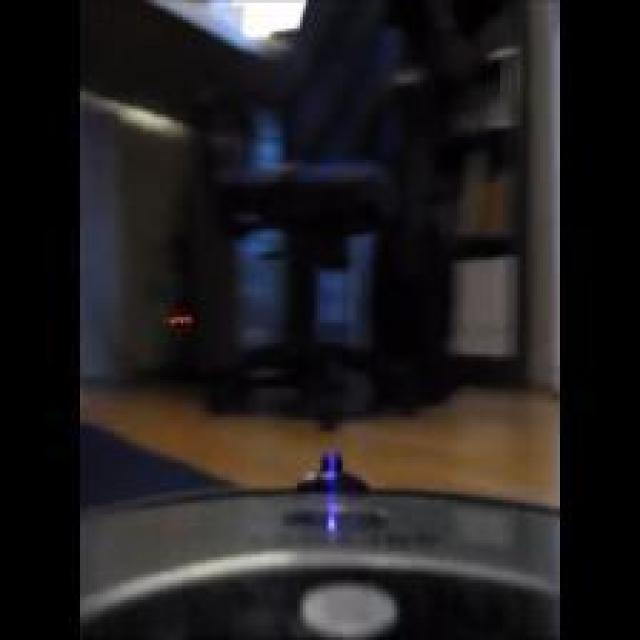other: (142, 301, 206, 369)
